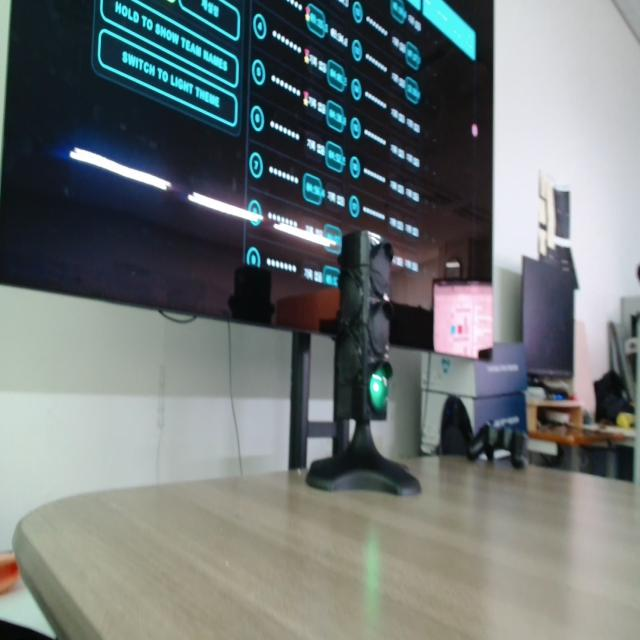green_light: (370, 367, 388, 412)
